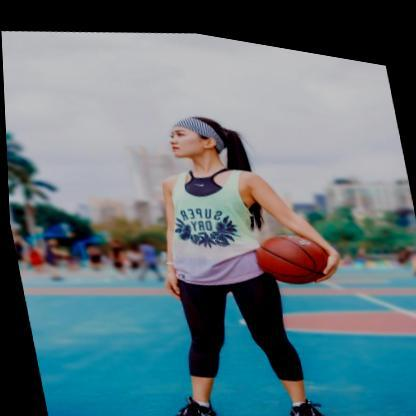basketball: (248, 214, 331, 284)
